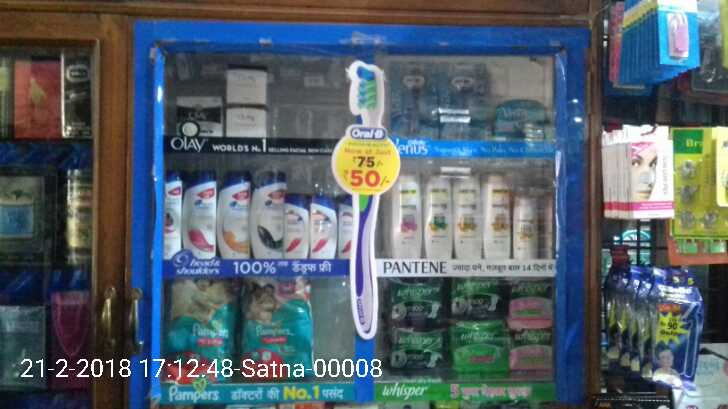venus: (439, 61, 495, 142), (394, 60, 436, 137), (495, 98, 547, 142)
